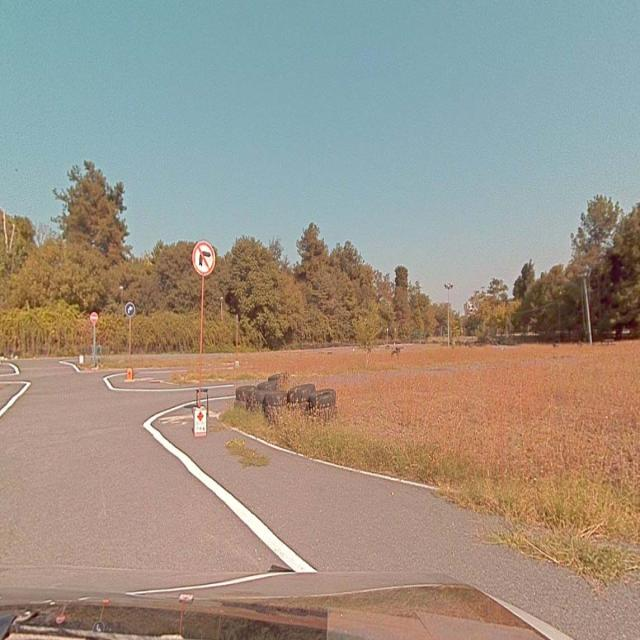girisyok: (90, 312, 98, 323)
sag: (125, 303, 135, 316)
sagadonulmez: (192, 241, 215, 275)
